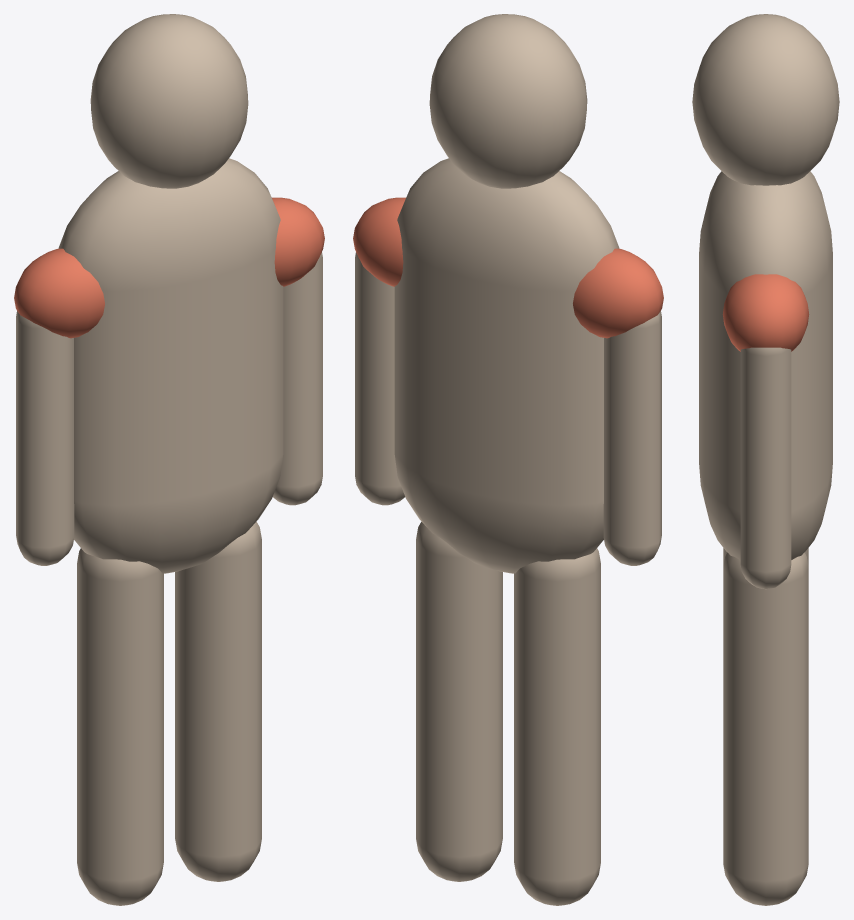
Rendered from human-body-locator.glb.
3 renders of one model, left to right at view 1: azimuth 30°, elevation 25°; view 2: azimuth 150°, elevation 25°; view 3: azimuth 270°, elevation 25°, orthographic.
Visible parts, largest first — view 1: torso, leg-left, leg-right, head, arm-left, arm-right, region-shoulder-l, region-shoulder-r; view 2: torso, leg-left, leg-right, head, arm-left, arm-right, region-shoulder-l, region-shoulder-r; view 3: torso, leg-right, head, arm-right, region-shoulder-r.
Boxes of the visible parts, x1,y1,x2,y2 form: torso: (58, 158, 283, 573); leg-left: (77, 548, 163, 905); leg-right: (175, 522, 261, 881); head: (90, 14, 248, 188); arm-left: (16, 311, 74, 565); arm-right: (273, 252, 322, 505); region-shoulder-l: (14, 248, 104, 338); region-shoulder-r: (272, 197, 324, 286); torso: (394, 158, 619, 573); leg-left: (514, 548, 600, 905); leg-right: (416, 522, 502, 881); head: (429, 14, 587, 188); arm-left: (603, 311, 661, 565); arm-right: (355, 252, 404, 505); region-shoulder-l: (573, 248, 663, 338); region-shoulder-r: (353, 197, 405, 286); torso: (699, 171, 832, 559); leg-right: (723, 552, 808, 905); head: (692, 14, 839, 185); arm-right: (740, 347, 791, 589); region-shoulder-r: (722, 274, 809, 351).
Bounding box in the file's own units: 1.84 × 5.09 × 0.7912.
